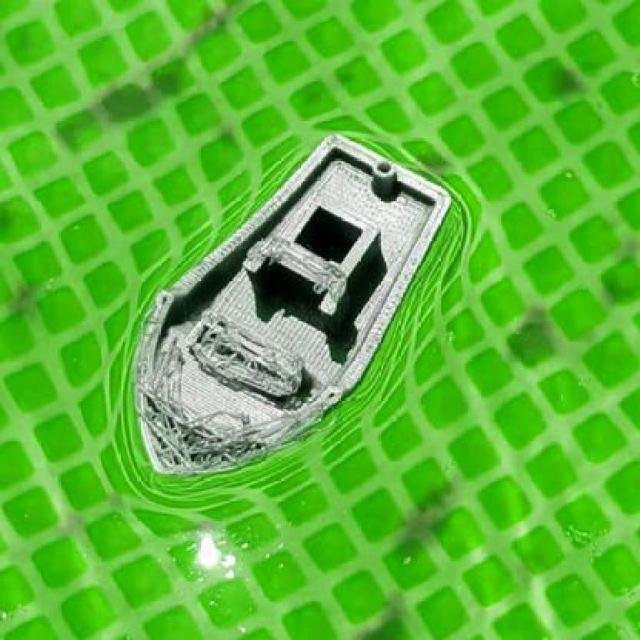spaghetti: (140, 320, 305, 477), (250, 236, 350, 302)
